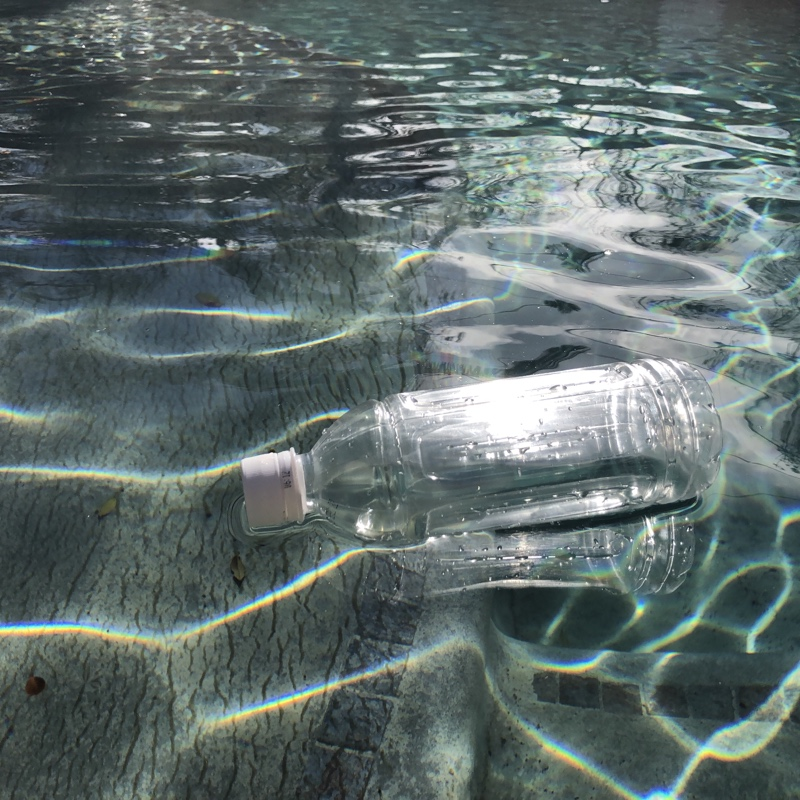Plastic Bottle: (228, 354, 728, 535)
